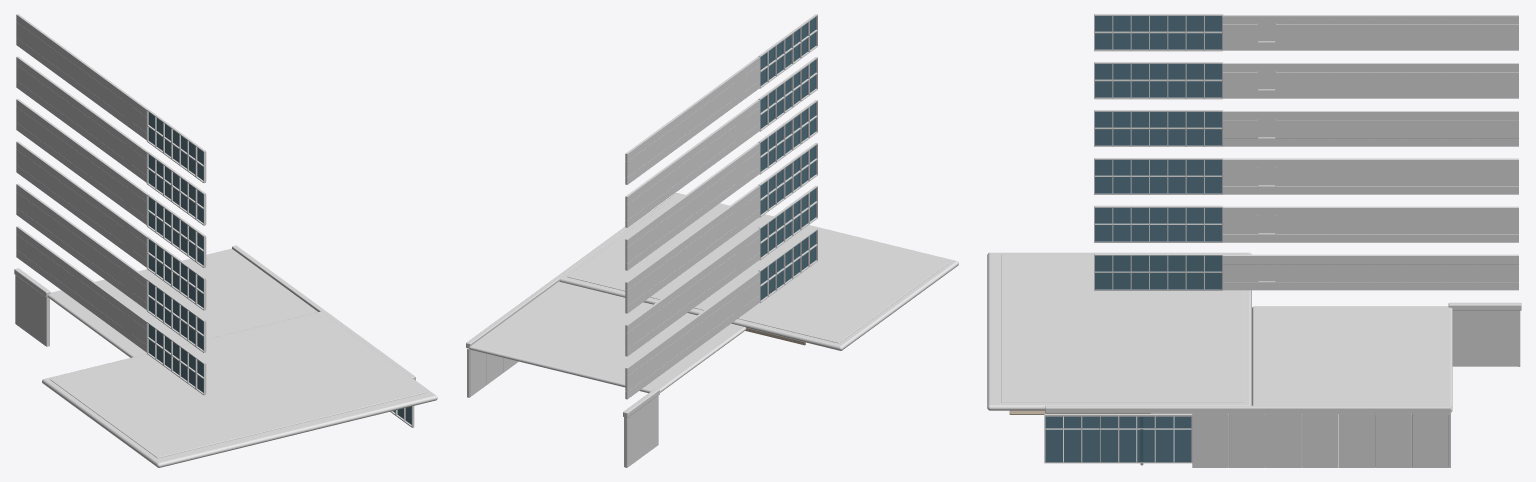
File: Hospital_EXT_RightFacadeWing.fbx
3 renders of one model, left to right at view 1: azimuth 30°, elevation 25°; view 2: azimuth 150°, elevation 25°; view 3: azimuth 270°, elevation 25°, orthographic. The views are drawn at different scales.
Visible parts, largest first — view 1: UE_EXT_RightFacadeWing_OPAQUE_L01_01, UE_EXT_RightFacadeWing_OPAQUE_L02_04_03, UE_EXT_RightFacadeWing_OPAQUE_L05_07_03, UE_EXT_RightFacadeWing_OPAQUE_L01_03, UE_EXT_RightFacadeWing_OPAQUE_L01_04, UE_EXT_RightFacadeWing_GLASS_L05_07_01, UE_EXT_RightFacadeWing_GLASS_L02_04_01, UE_EXT_RightFacadeWing_OPAQUE_L05_07_01, UE_EXT_RightFacadeWing_OPAQUE_L02_04_01, UE_EXT_RightFacadeWing_OPAQUE_L02_04_02, UE_EXT_RightFacadeWing_OPAQUE_L05_07_02; view 2: UE_EXT_RightFacadeWing_OPAQUE_L01_01, UE_EXT_RightFacadeWing_OPAQUE_L01_03, UE_EXT_RightFacadeWing_OPAQUE_L05_07_03, UE_EXT_RightFacadeWing_OPAQUE_L02_04_03, UE_EXT_RightFacadeWing_OPAQUE_L01_04, UE_EXT_RightFacadeWing_GLASS_L02_04_01, UE_EXT_RightFacadeWing_GLASS_L05_07_01, UE_EXT_RightFacadeWing_OPAQUE_L05_07_01, UE_EXT_RightFacadeWing_OPAQUE_L02_04_01; view 3: UE_EXT_RightFacadeWing_OPAQUE_L01_03, UE_EXT_RightFacadeWing_OPAQUE_L02_04_03, UE_EXT_RightFacadeWing_OPAQUE_L05_07_03, UE_EXT_RightFacadeWing_OPAQUE_L01_01, UE_EXT_RightFacadeWing_GLASS_L02_04_01, UE_EXT_RightFacadeWing_GLASS_L05_07_01, UE_EXT_RightFacadeWing_OPAQUE_L01_04, UE_EXT_RightFacadeWing_GLASS_L01_03, UE_EXT_RightFacadeWing_OPAQUE_L05_07_01, UE_EXT_RightFacadeWing_OPAQUE_L02_04_01, UE_EXT_RightFacadeWing_GLASS_L01_01, UE_EXT_RightFacadeWing_OPAQUE_L02_04_02 (+1 smaller).
Boxes of the visible parts, x1,y1,x2,y2 form: UE_EXT_RightFacadeWing_OPAQUE_L01_01: [49, 299, 426, 458]; UE_EXT_RightFacadeWing_OPAQUE_L02_04_03: [16, 141, 148, 352]; UE_EXT_RightFacadeWing_OPAQUE_L05_07_03: [16, 14, 148, 224]; UE_EXT_RightFacadeWing_OPAQUE_L01_03: [15, 248, 317, 357]; UE_EXT_RightFacadeWing_OPAQUE_L01_04: [14, 245, 437, 467]; UE_EXT_RightFacadeWing_GLASS_L05_07_01: [148, 112, 203, 265]; UE_EXT_RightFacadeWing_GLASS_L02_04_01: [148, 239, 203, 392]; UE_EXT_RightFacadeWing_OPAQUE_L05_07_01: [146, 109, 206, 267]; UE_EXT_RightFacadeWing_OPAQUE_L02_04_01: [146, 237, 206, 395]; UE_EXT_RightFacadeWing_OPAQUE_L02_04_02: [123, 227, 132, 334]; UE_EXT_RightFacadeWing_OPAQUE_L05_07_02: [123, 100, 132, 207]; UE_EXT_RightFacadeWing_OPAQUE_L01_01: [567, 197, 947, 466]; UE_EXT_RightFacadeWing_OPAQUE_L01_03: [467, 281, 746, 467]; UE_EXT_RightFacadeWing_OPAQUE_L05_07_03: [625, 57, 759, 270]; UE_EXT_RightFacadeWing_OPAQUE_L02_04_03: [625, 185, 759, 399]; UE_EXT_RightFacadeWing_OPAQUE_L01_04: [466, 193, 958, 417]; UE_EXT_RightFacadeWing_GLASS_L02_04_01: [760, 145, 816, 300]; UE_EXT_RightFacadeWing_GLASS_L05_07_01: [760, 17, 816, 171]; UE_EXT_RightFacadeWing_OPAQUE_L05_07_01: [758, 14, 817, 174]; UE_EXT_RightFacadeWing_OPAQUE_L02_04_01: [758, 143, 817, 303]; UE_EXT_RightFacadeWing_OPAQUE_L01_03: [1192, 306, 1517, 467]; UE_EXT_RightFacadeWing_OPAQUE_L02_04_03: [1223, 158, 1518, 290]; UE_EXT_RightFacadeWing_OPAQUE_L05_07_03: [1223, 15, 1518, 146]; UE_EXT_RightFacadeWing_OPAQUE_L01_01: [1001, 254, 1520, 402]; UE_EXT_RightFacadeWing_GLASS_L02_04_01: [1095, 160, 1221, 289]; UE_EXT_RightFacadeWing_GLASS_L05_07_01: [1095, 16, 1221, 145]; UE_EXT_RightFacadeWing_OPAQUE_L01_04: [987, 252, 1521, 413]; UE_EXT_RightFacadeWing_GLASS_L01_03: [1045, 416, 1191, 462]; UE_EXT_RightFacadeWing_OPAQUE_L05_07_01: [1094, 14, 1275, 146]; UE_EXT_RightFacadeWing_OPAQUE_L02_04_01: [1094, 158, 1275, 290]; UE_EXT_RightFacadeWing_GLASS_L01_01: [1044, 414, 1192, 463]; UE_EXT_RightFacadeWing_OPAQUE_L02_04_02: [1258, 161, 1515, 289].
Size of the model in its own units: 27.28 by 28.56 by 39.39.
